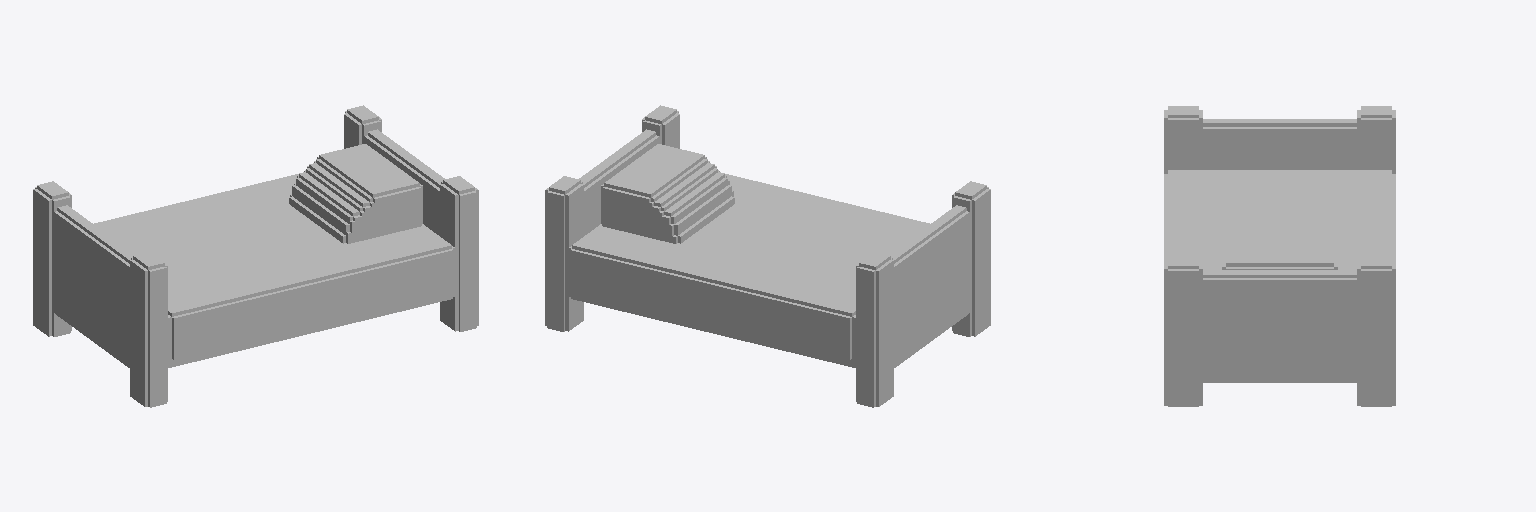
Rendered from bed.obj.
3 views of the same model, side by side, from view 1: azimuth 30°, elevation 25°; view 2: azimuth 150°, elevation 25°; view 3: azimuth 270°, elevation 25° (orthographic).
Parts seen in each view (by area): view 1: object 1; view 2: object 1; view 3: object 1.
Boxes of the visible parts, x1=… form: object 1: x1=33, y1=105, x2=478, y2=407; object 1: x1=545, y1=105, x2=990, y2=407; object 1: x1=1164, y1=106, x2=1395, y2=406.
Bounding box in the file's own units: 10 × 4 × 6.